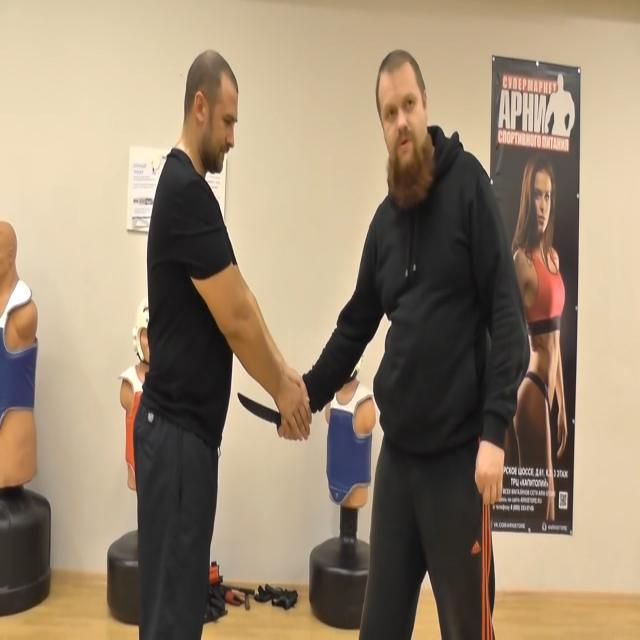knife: (237, 390, 282, 427)
